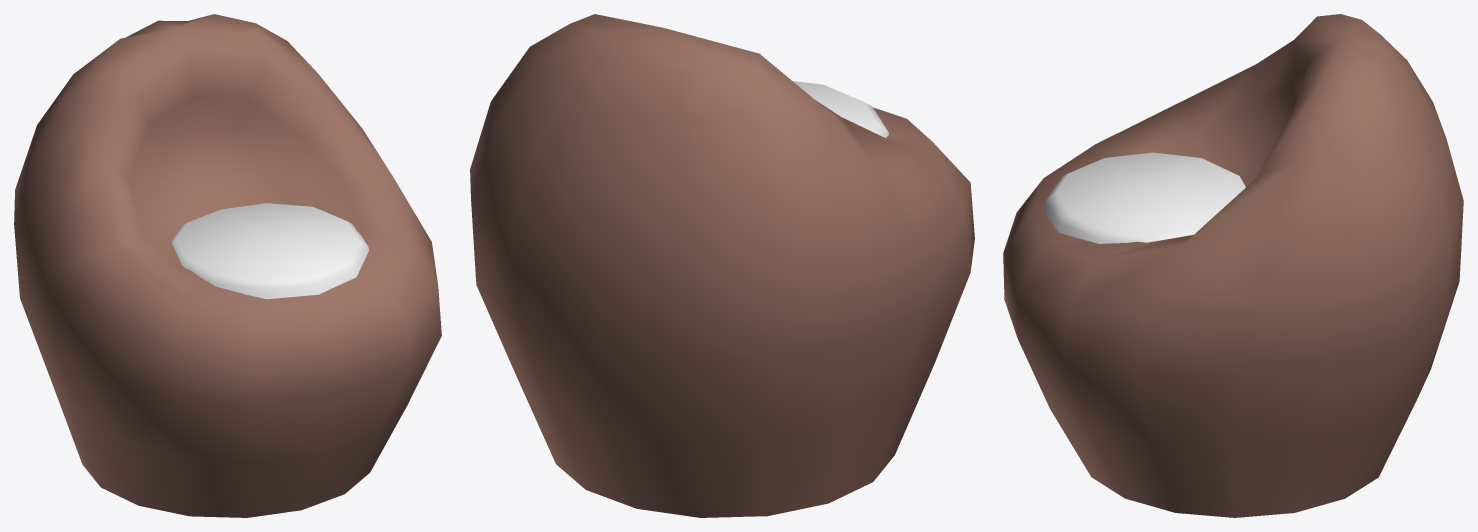
The model's file is armchair_009.glb.
3 views of the same model, side by side, from view 1: azimuth 30°, elevation 25°; view 2: azimuth 150°, elevation 25°; view 3: azimuth 270°, elevation 25° (orthographic). The views are drawn at different scales.
Parts seen in each view (by area): view 1: armchair_009; view 2: armchair_009; view 3: armchair_009.
Part boxes in pixels (x1=…): armchair_009: x1=14, y1=14, x2=441, y2=517; armchair_009: x1=470, y1=14, x2=974, y2=517; armchair_009: x1=1003, y1=14, x2=1463, y2=517.
Bounding box in the file's own units: 0.9151 × 0.9934 × 1.
1 material, 1 textured.
